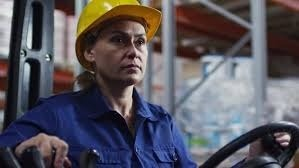helmet: (75, 1, 166, 44)
person with partial safety: (55, 1, 188, 168)
